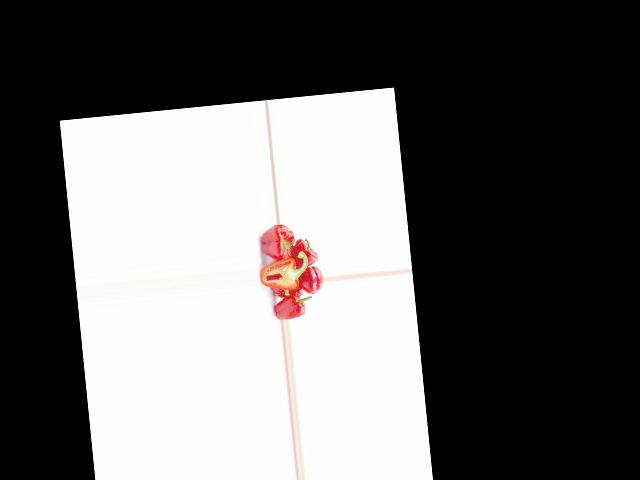bell_pepper: (292, 236, 319, 268)
